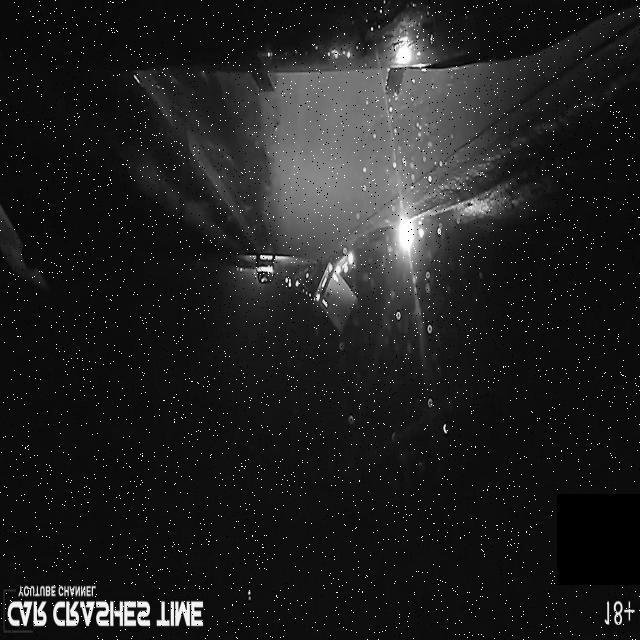severe: (297, 256, 358, 342)
